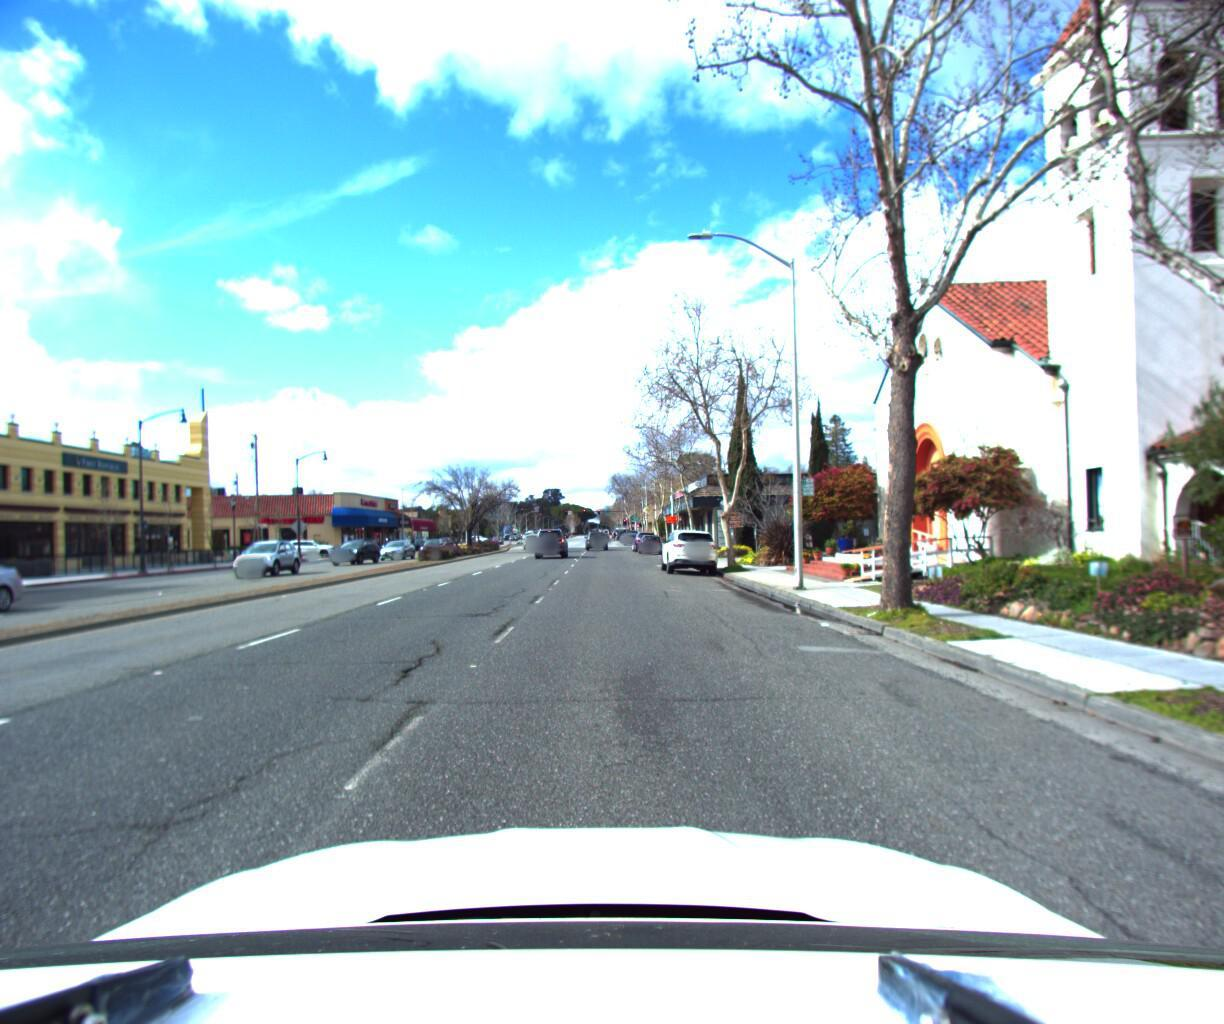car: (233, 535, 307, 580), (661, 528, 727, 577), (0, 553, 36, 633), (328, 539, 390, 568), (533, 527, 569, 560), (287, 540, 343, 561), (381, 539, 419, 560), (639, 534, 666, 556), (586, 528, 607, 551), (524, 533, 547, 553)
